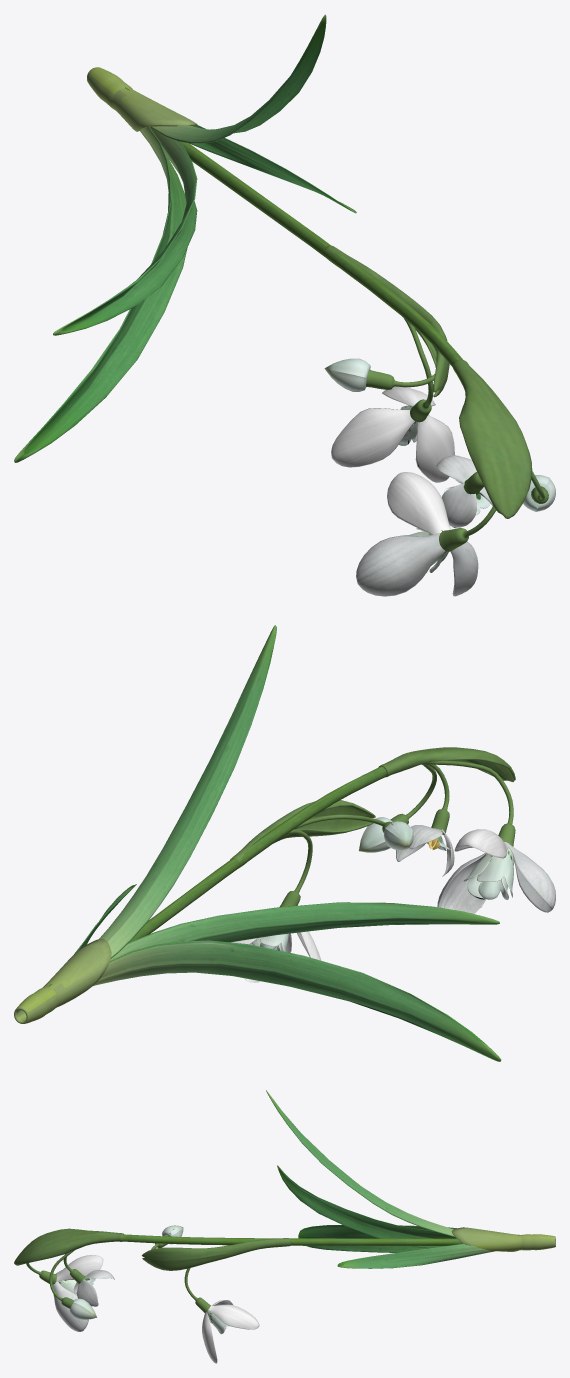
Rendered from Snowdrop.glb.
3 views of the same model, one above another, from view 1: azimuth 30°, elevation 25°; view 2: azimuth 150°, elevation 25°; view 3: azimuth 270°, elevation 25° (orthographic). The views are drawn at different scales.
Visible parts, largest first — view 1: Node3, Node4, Node2, Node5; view 2: Node4, Node2, Node3, Node5; view 3: Node4, Node2, Node3, Node5.
Boxes of the visible parts, <box> form: Node3: <box>324,358,555,596</box>; Node4: <box>14,14,356,462</box>; Node2: <box>180,141,548,551</box>; Node5: <box>87,67,197,131</box>; Node4: <box>48,625,501,1061</box>; Node2: <box>129,747,515,942</box>; Node3: <box>231,817,555,982</box>; Node5: <box>14,938,111,1023</box>; Node4: <box>266,1090,521,1268</box>; Node2: <box>14,1228,462,1312</box>; Node3: <box>52,1225,259,1363</box>; Node5: <box>451,1227,555,1251</box>.
Size of the model in its own units: 3.82 by 4.34 by 8.41.
Materials: 5 (4 with a texture image).
